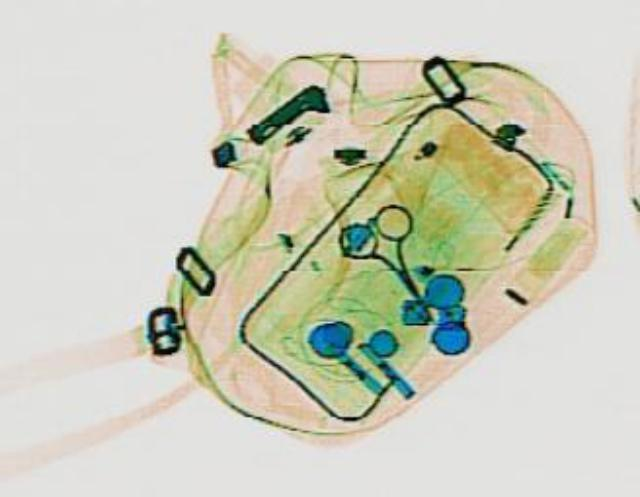Scissors: (322, 196, 461, 313)
